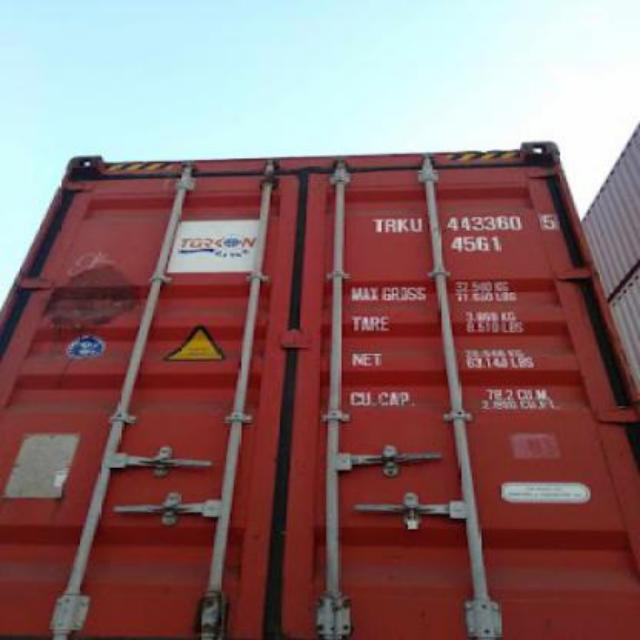0: (511, 215, 524, 233)
3: (468, 214, 486, 230), (486, 215, 498, 233)
4: (444, 212, 460, 234), (460, 215, 472, 233)
6: (496, 213, 509, 231)
K: (398, 217, 410, 233)
R: (384, 218, 398, 232)
T: (370, 217, 386, 233)
U: (408, 217, 426, 233)
